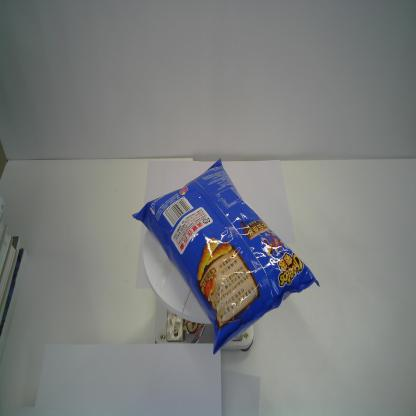Puffed Food: (128, 155, 322, 358)
